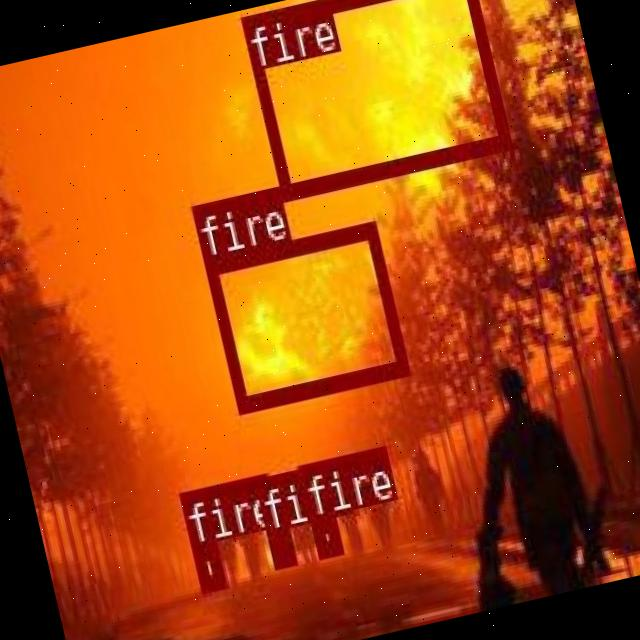fire: (238, 0, 509, 197), (201, 219, 406, 412), (188, 542, 222, 588), (309, 512, 340, 554), (265, 526, 294, 566)
